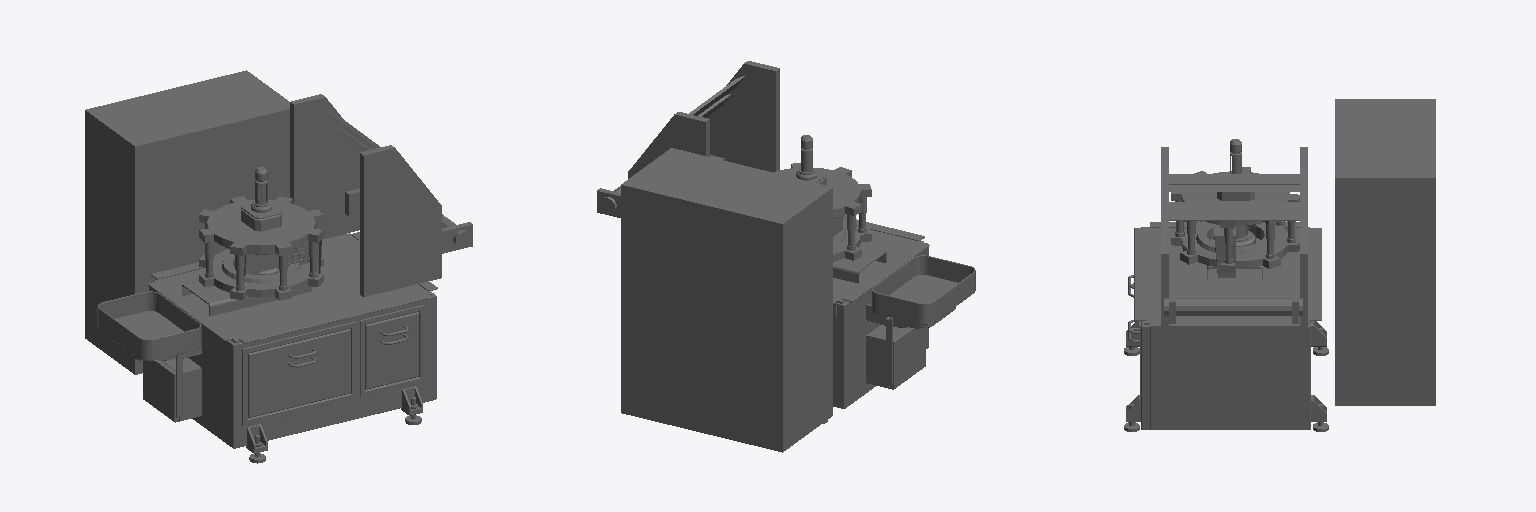
File: machine_01.obj
3 renders of one model, left to right at view 1: azimuth 30°, elevation 25°; view 2: azimuth 150°, elevation 25°; view 3: azimuth 270°, elevation 25°, orthographic.
Parts seen in each view (by area): view 1: Mesh; view 2: Mesh; view 3: Mesh.
Boxes of the visible parts, x1,y1,x2,y2 form: Mesh: [85, 70, 472, 463]; Mesh: [597, 61, 975, 452]; Mesh: [1124, 99, 1435, 431].
Size of the model in its own units: 5.49 by 4.29 by 4.59.